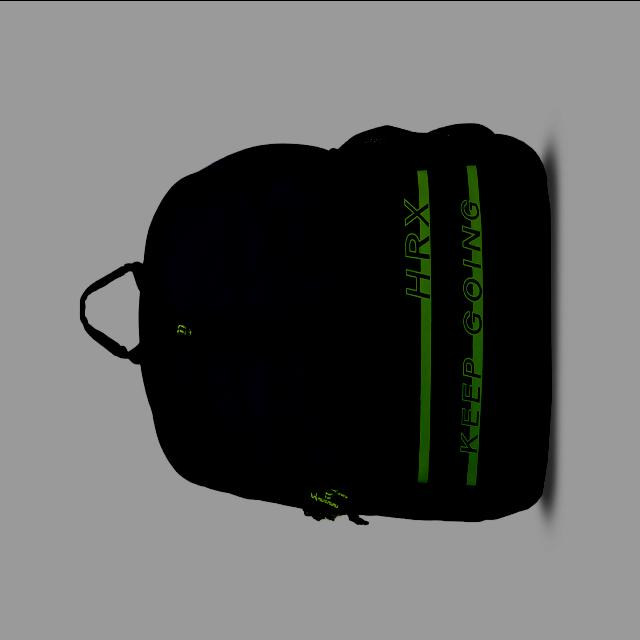backpack: (80, 124, 553, 526)
